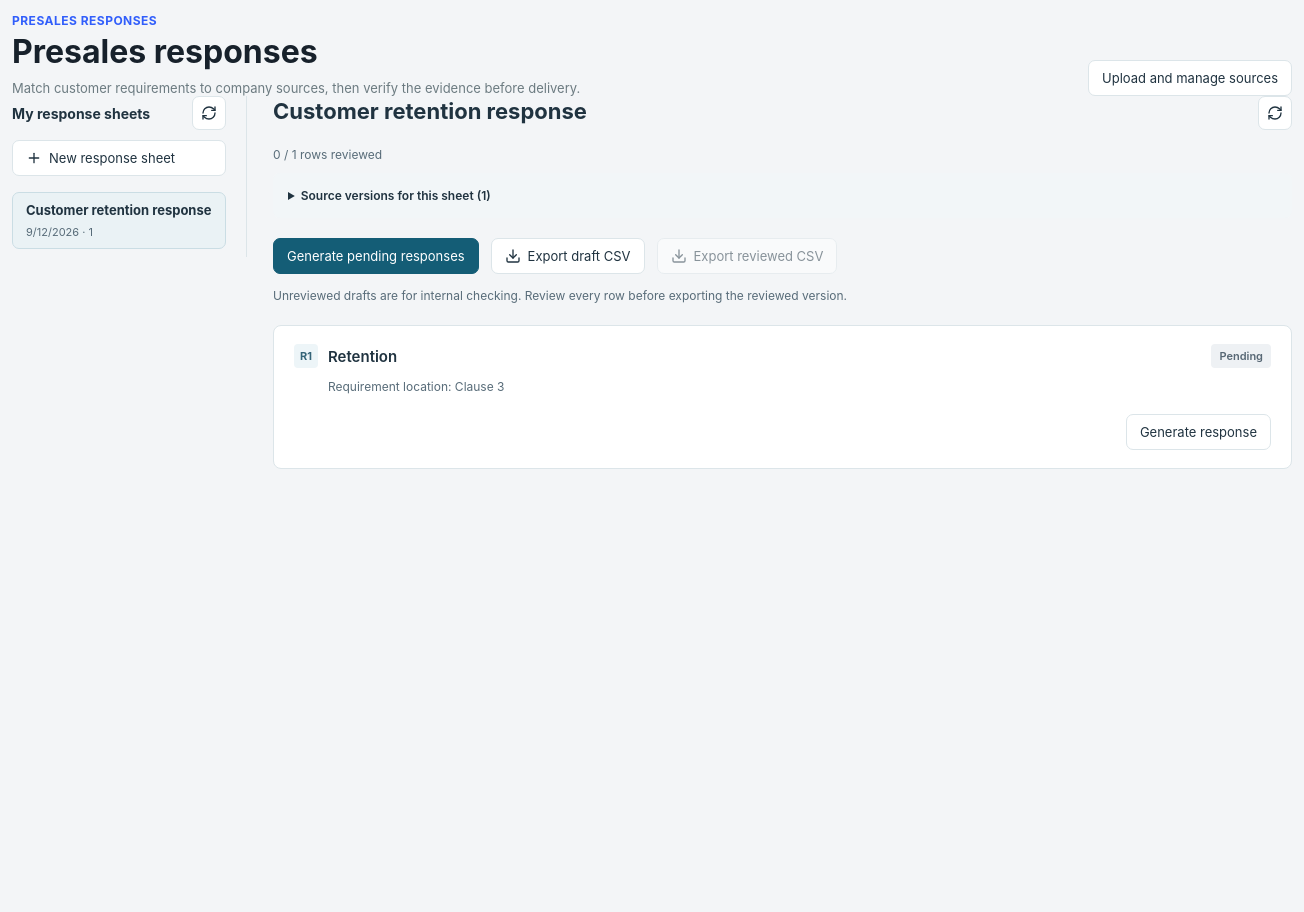
Test: PresalesWorkspace HTTP boundary › shows the actual saved model failure after a lost HTTP response
What coordinates should you click on to do the following:
click the button "Generate response"
I would click on:
 (1198, 432)
Its box is top-left (1126, 414), bottom-right (1271, 450).
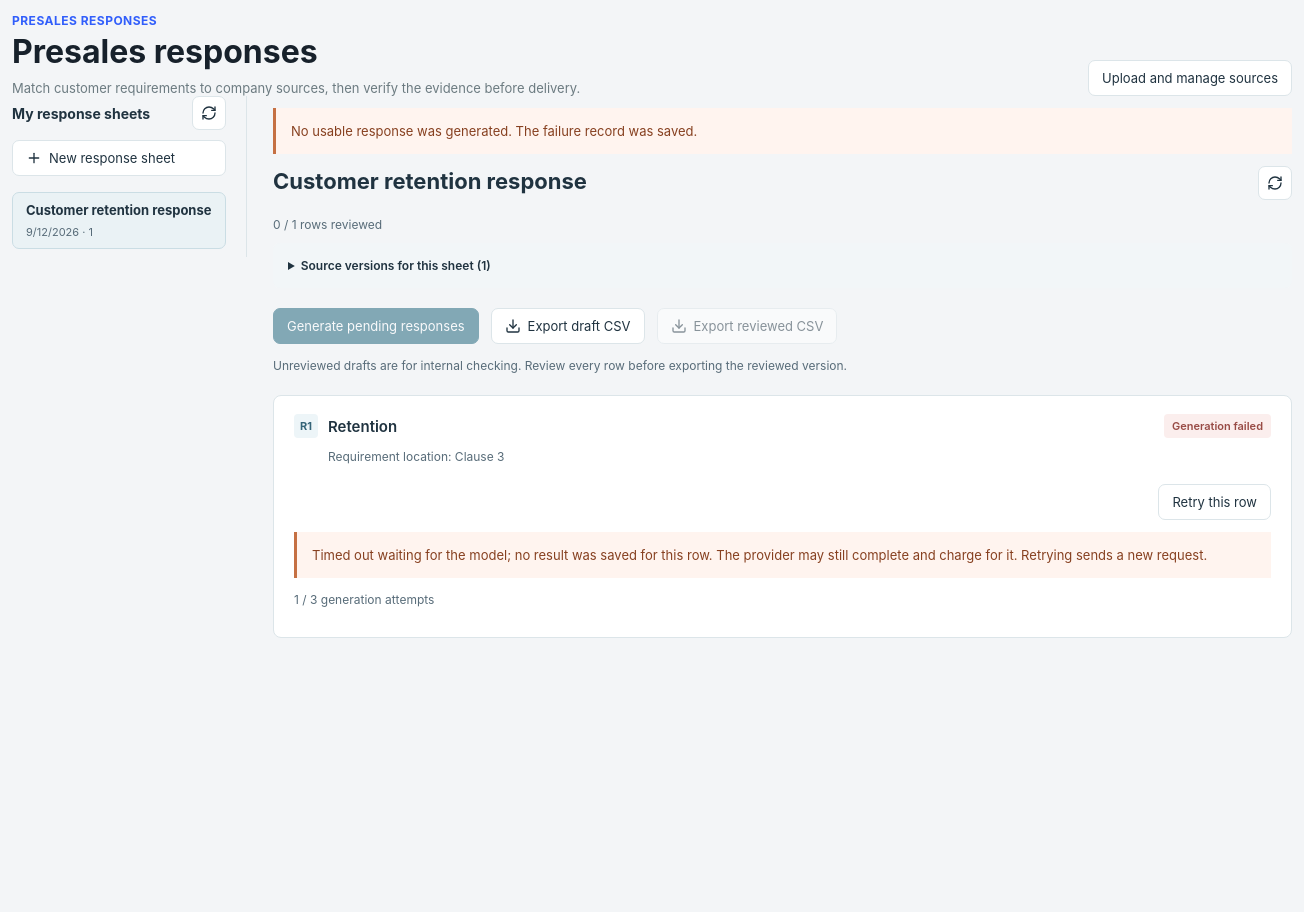
Expected: the button "Retry this row" is enabled, top-left (1158, 484), bottom-right (1271, 520)
Result: the text "provider may still complete and charge" is shown at top-left (312, 547), bottom-right (1207, 563)
